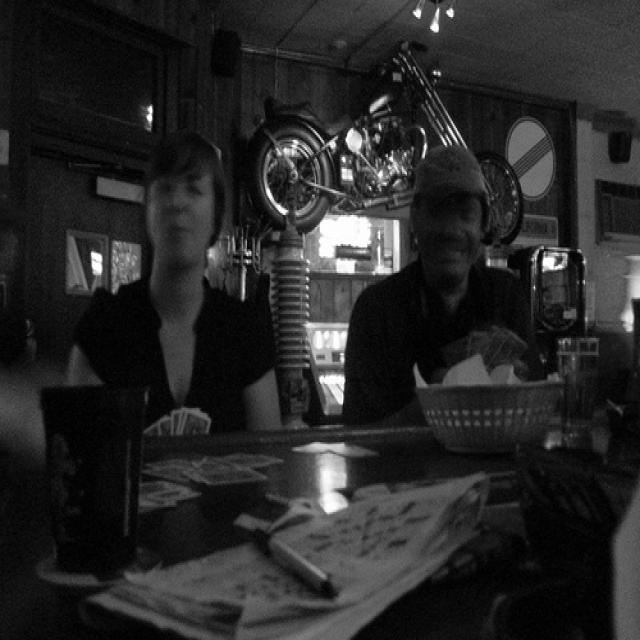Cup: (41, 370, 141, 598), (559, 327, 611, 478)
People: (145, 118, 274, 389), (387, 136, 505, 381)
Table: (7, 387, 640, 640)
